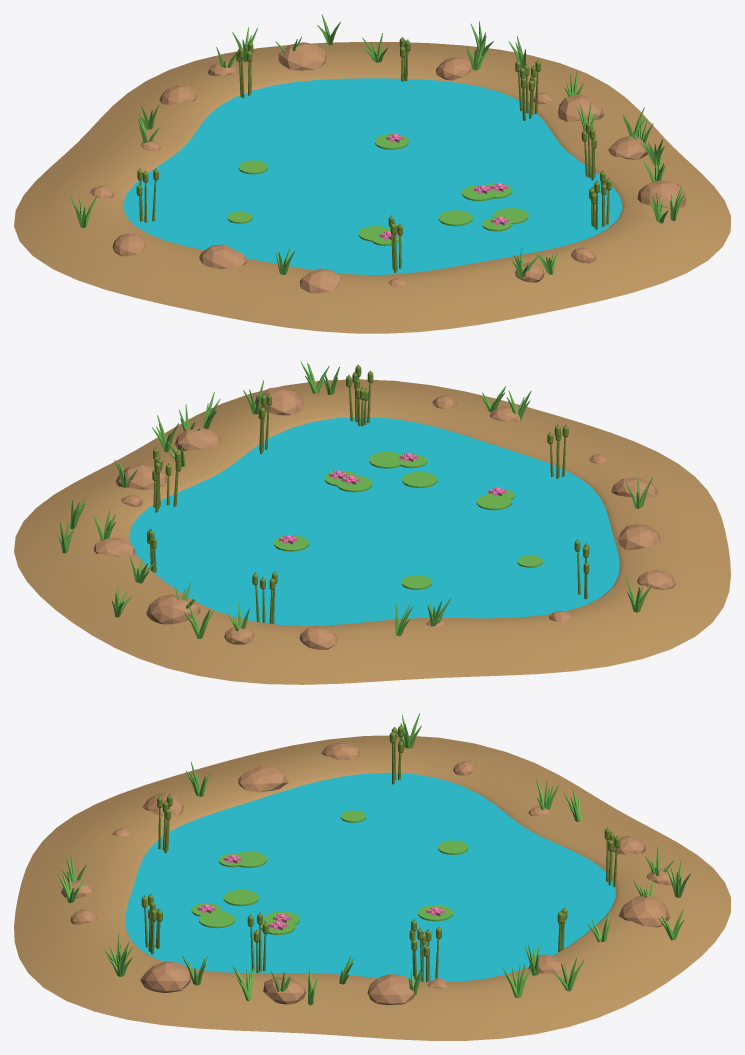
The model's file is SandOasis.obj.
3 renders of one model, top to bottom at view 1: azimuth 30°, elevation 25°; view 2: azimuth 150°, elevation 25°; view 3: azimuth 270°, elevation 25°, orthographic. The views are drawn at different scales.
Visible parts, largest first — view 1: Bank, Water, Rock, Grass, Reed, Lily; view 2: Bank, Water, Rock, Grass, Reed, Lily; view 3: Bank, Water, Grass, Rock, Reed, Lily.
Part boxes in pixels (<box>): Bank: <box>14,42,730,333</box>; Water: <box>123,78,622,274</box>; Rock: <box>90,42,686,293</box>; Grass: <box>69,14,684,278</box>; Reed: <box>136,37,611,272</box>; Lily: <box>379,134,508,240</box>; Bank: <box>14,379,730,684</box>; Water: <box>129,417,619,625</box>; Rock: <box>93,387,676,649</box>; Grass: <box>57,362,652,638</box>; Reed: <box>147,364,589,623</box>; Lily: <box>279,452,506,544</box>; Bank: <box>14,735,730,1040</box>; Water: <box>125,772,615,981</box>; Grass: <box>58,713,690,1005</box>; Rock: <box>61,742,676,1005</box>; Reed: <box>141,725,620,981</box>; Lily: <box>197,854,444,930</box>.
Size of the model in its own units: 58.85 by 6.33 by 58.32.
